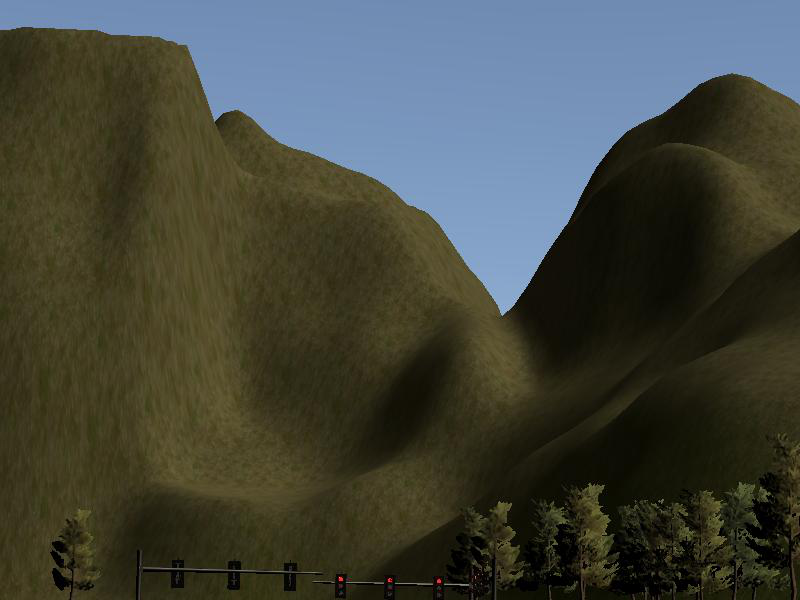red: (336, 573, 348, 600), (385, 574, 396, 600), (433, 575, 444, 600)
